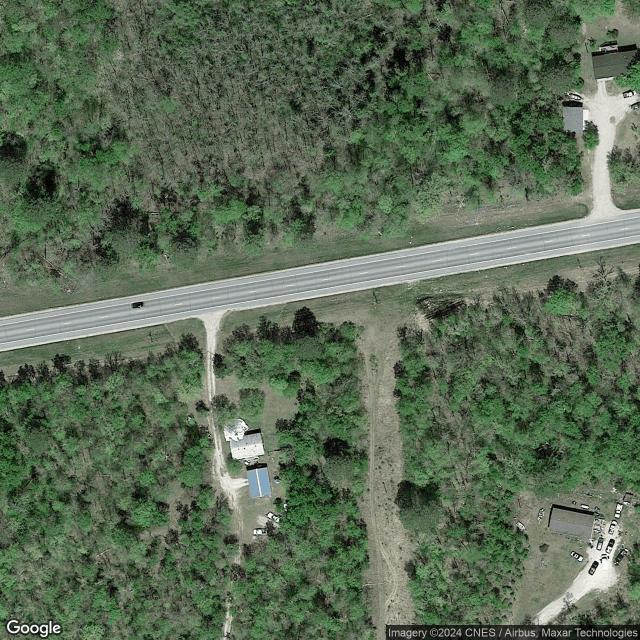Propane: (580, 503, 590, 510)
